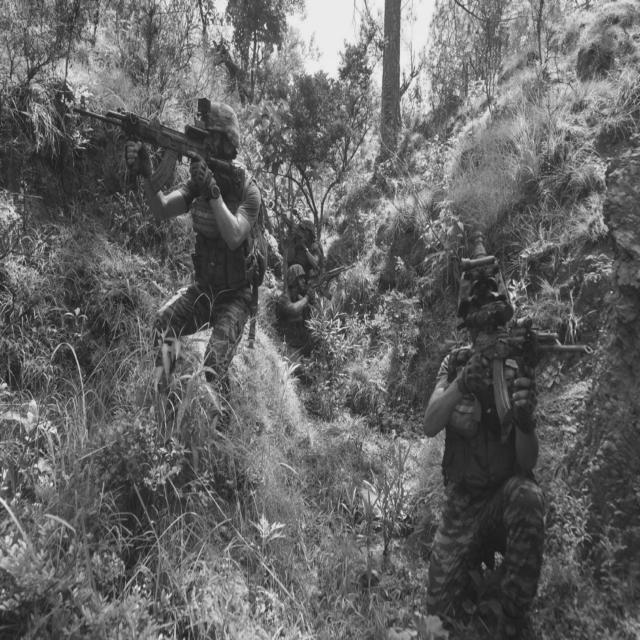Militant: (86, 95, 270, 441), (423, 252, 556, 638), (280, 208, 330, 358)
